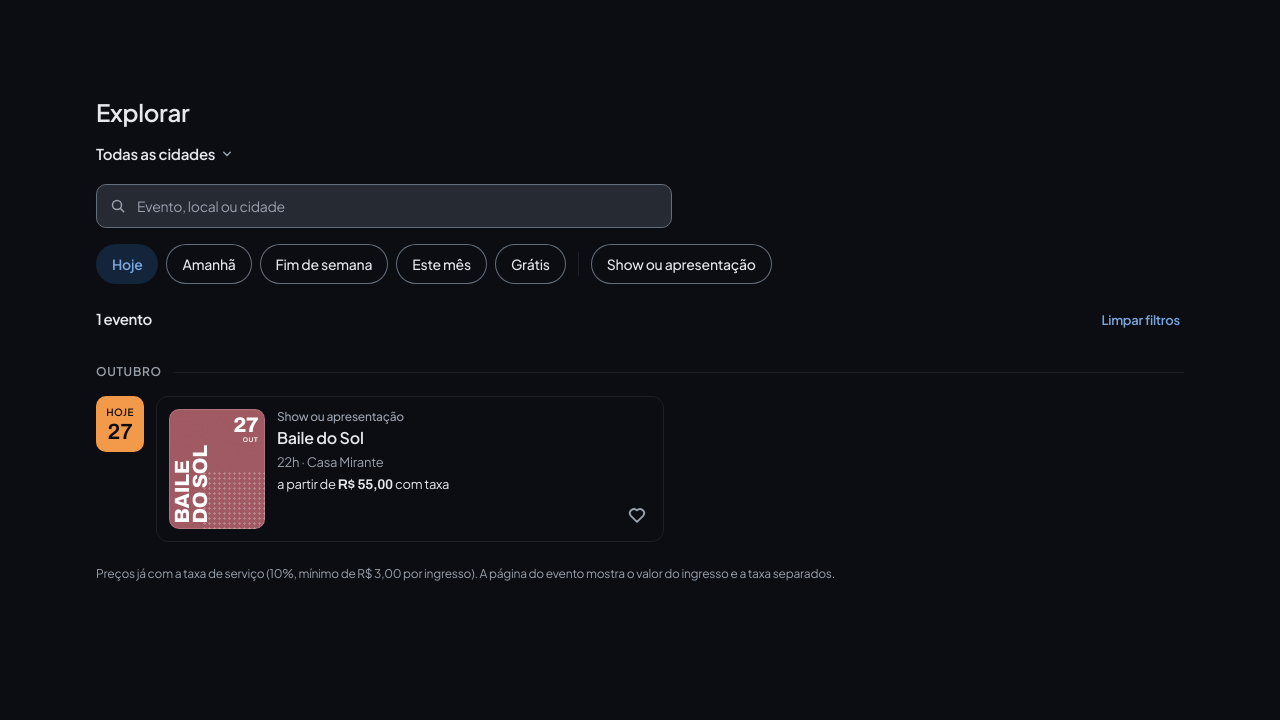
Scenario: Explorar (V11b) › /events/hoje abre já filtrado; o chip muda o endereço e limpar volta a /events
Expected: the heading "1 evento" is shown, [96,310,152,327]
Click the button "Amanhã".
click(209, 264)  # box [166,244,252,284]
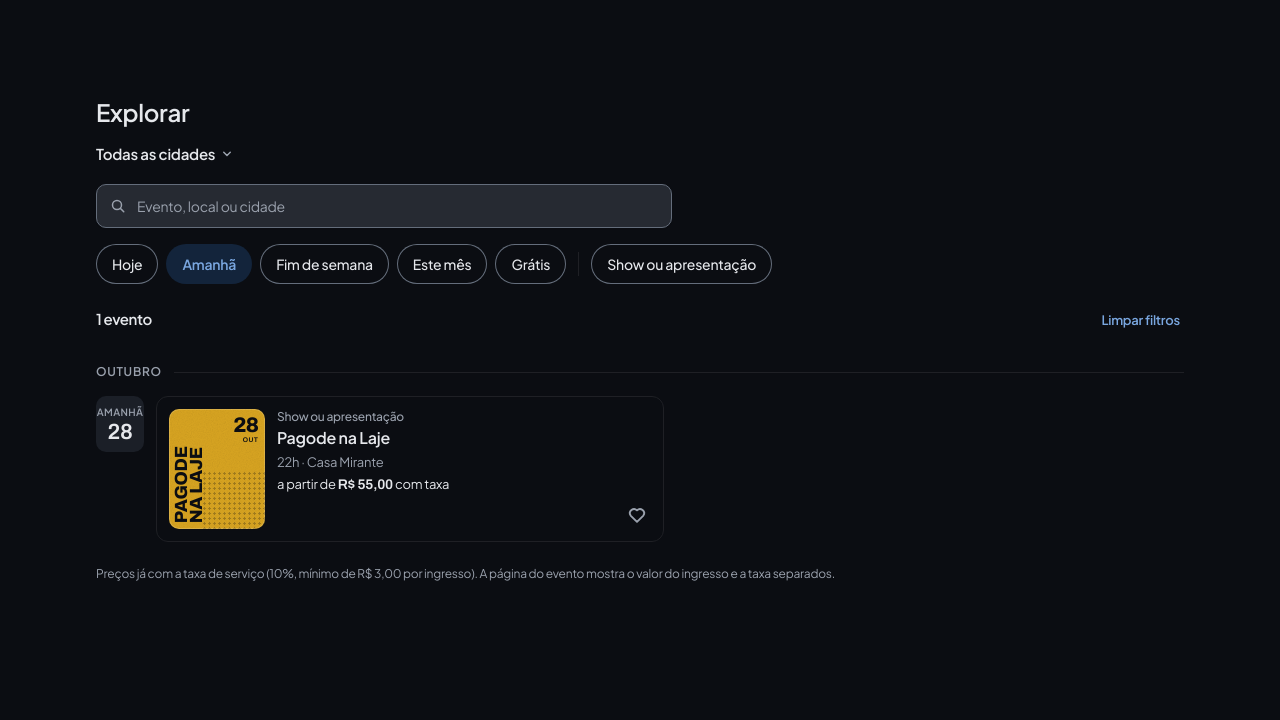
Now the text "Pagode na Laje" is shown, box [277,427,390,448]
Now the link "BAILE DO SOL" is gone
Click the button "Limpar filtros".
click(1141, 320)  # box [1089,304,1192,336]
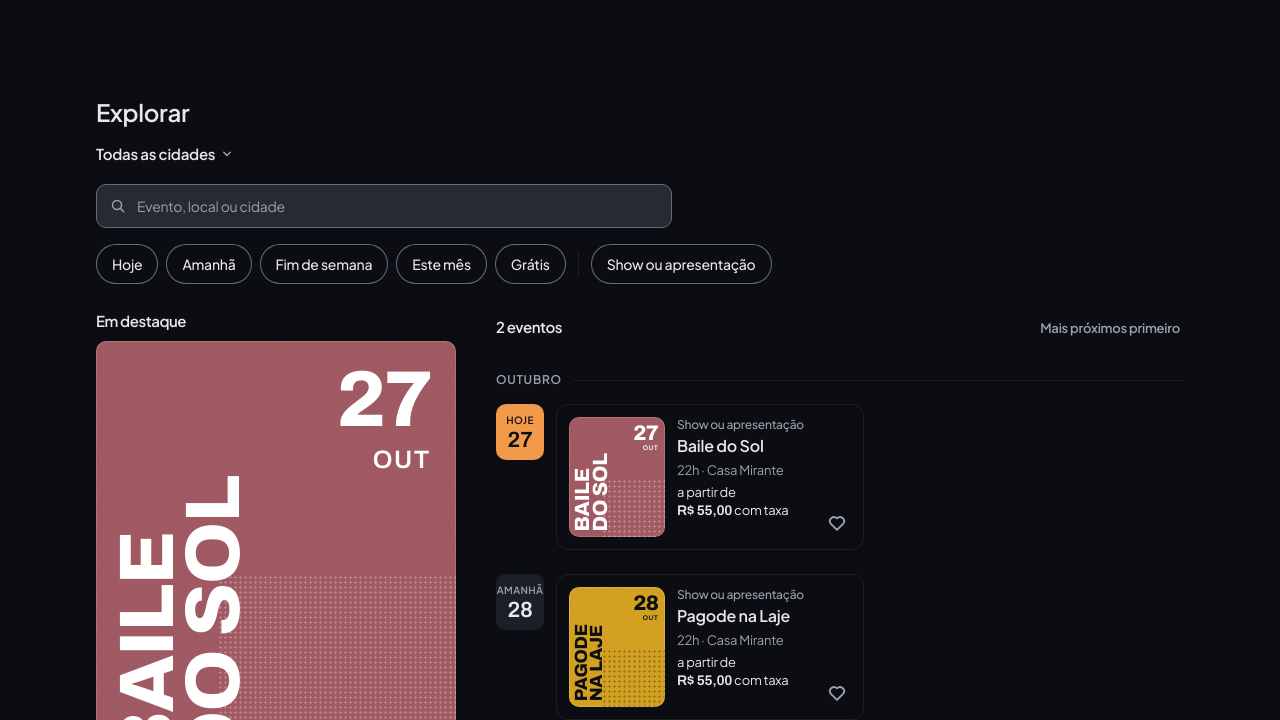
Now the heading "2 eventos" is shown, box [496,318,562,335]
